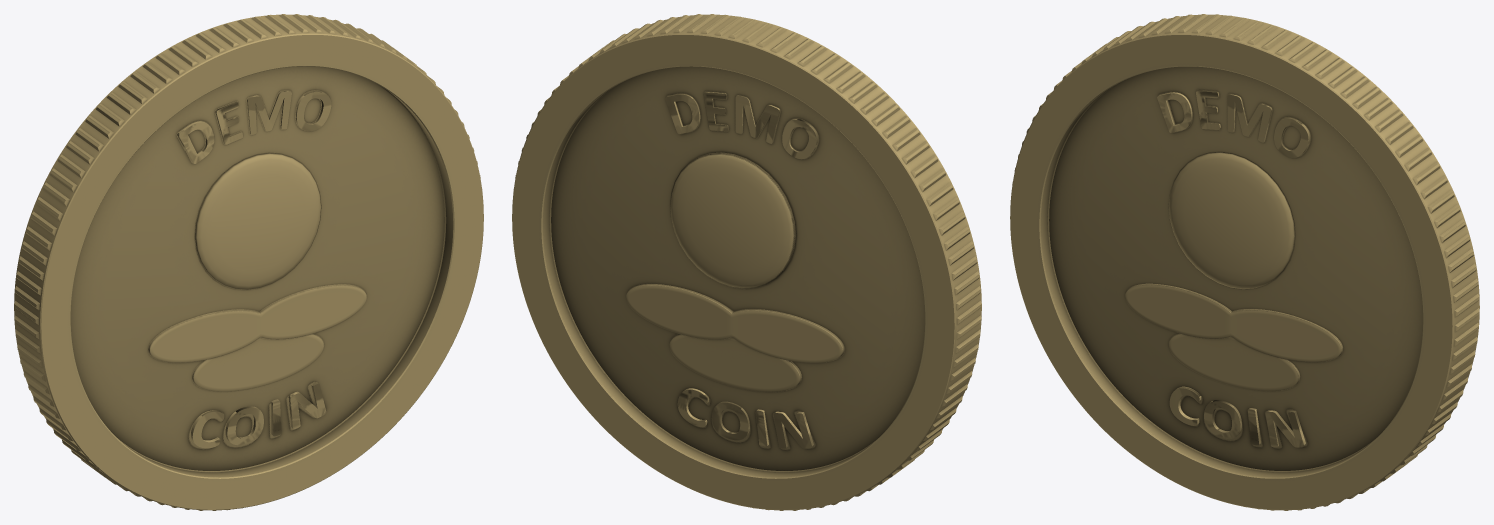
The model's file is coin_gold.glb.
The picture shows the model from 3 angles, left to right: view 1: azimuth 30°, elevation 25°; view 2: azimuth 150°, elevation 25°; view 3: azimuth 330°, elevation 25°; orthographic projection.
Visible parts, largest first — view 1: Sph_Coin_I:sph_coin_d_optim, typeMesh7; view 2: Sph_Coin_I:sph_coin_d_optim, typeMesh7; view 3: Sph_Coin_I:sph_coin_d_optim, typeMesh7.
Part boxes in pixels (box(x1,y1,x2,y2)): Sph_Coin_I:sph_coin_d_optim: box(14, 14, 483, 510); typeMesh7: box(177, 91, 331, 448); Sph_Coin_I:sph_coin_d_optim: box(512, 14, 981, 510); typeMesh7: box(665, 92, 818, 448); Sph_Coin_I:sph_coin_d_optim: box(1010, 14, 1479, 510); typeMesh7: box(1157, 90, 1310, 447).
Size of the model in its own units: 1.01 by 1.01 by 0.121.
1 material, 1 textured.
